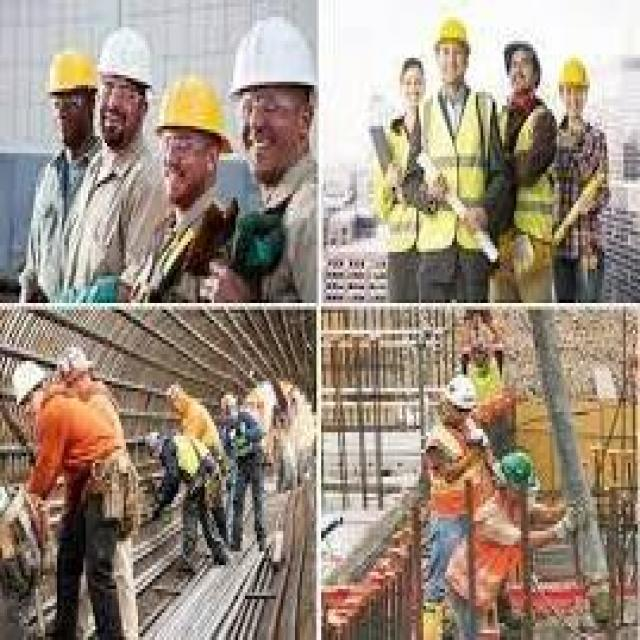Reflective-Jacket: (24, 375, 133, 531), (416, 82, 495, 258), (450, 490, 540, 633), (419, 419, 490, 531)
Safety-Helmet: (226, 7, 324, 102), (152, 65, 236, 153), (95, 20, 157, 92), (36, 38, 104, 102), (490, 442, 545, 500), (2, 354, 55, 412), (430, 7, 476, 51), (440, 368, 483, 415), (554, 48, 595, 95)
